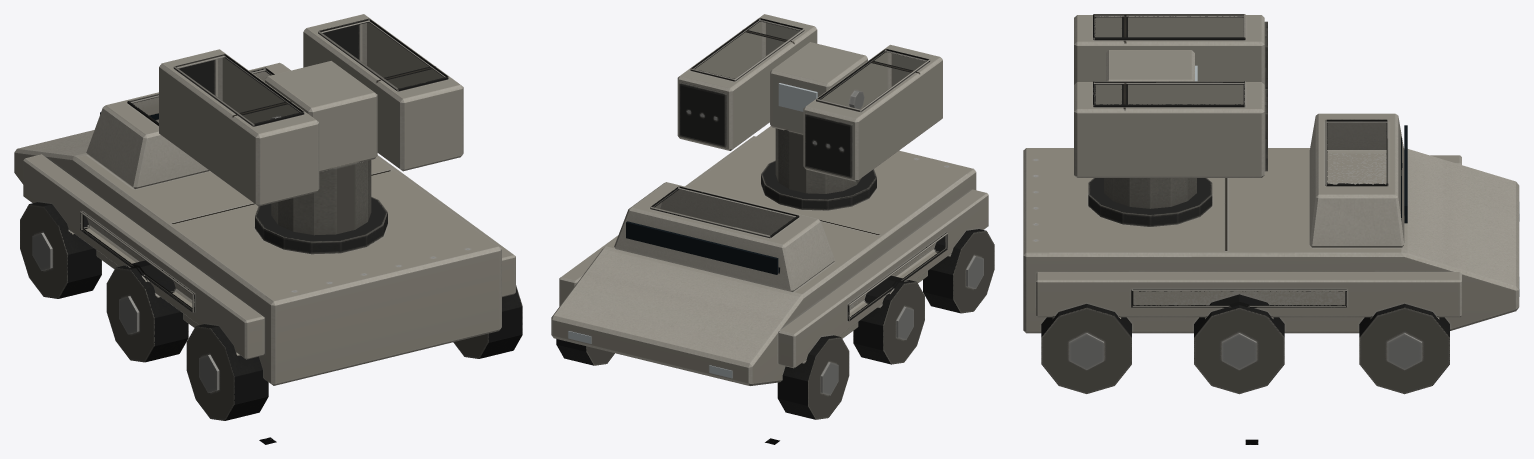
File: ord_halo.fbx
3 renders of one model, left to right at view 1: azimuth 30°, elevation 25°; view 2: azimuth 150°, elevation 25°; view 3: azimuth 270°, elevation 25°, orthographic. The views are drawn at different scales.
Parts seen in each view (by area): view 1: base_bar, launcher_bar, turret_bar; view 2: base_bar, launcher_bar, turret_bar; view 3: base_bar, launcher_bar, turret_bar.
Boxes of the visible parts, x1=… form: base_bar: x1=14, y1=62, x2=522, y2=420; launcher_bar: x1=159, y1=14, x2=463, y2=206; turret_bar: x1=271, y1=160, x2=371, y2=235; base_bar: x1=551, y1=126, x2=994, y2=419; launcher_bar: x1=677, y1=14, x2=942, y2=181; turret_bar: x1=775, y1=128, x2=861, y2=193; base_bar: x1=1023, y1=113, x2=1519, y2=394; launcher_bar: x1=1074, y1=14, x2=1267, y2=177; turret_bar: x1=1104, y1=178, x2=1196, y2=208.
Bounding box in the file's own units: 508 × 664 × 781.
2 materials, 2 textured.
